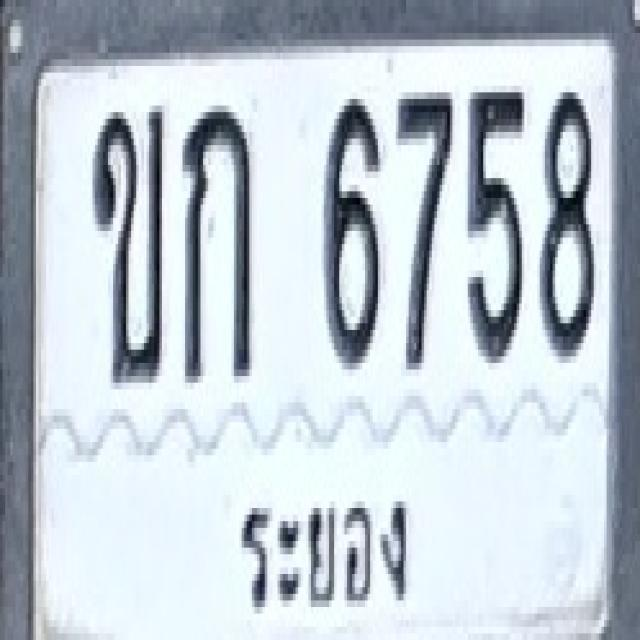5: (466, 86, 524, 363)
6: (324, 92, 380, 363)
7: (396, 86, 452, 369)
8: (540, 86, 594, 356)
A01: (182, 103, 252, 380)
A02: (91, 105, 163, 382)
RYG: (229, 464, 417, 629)
